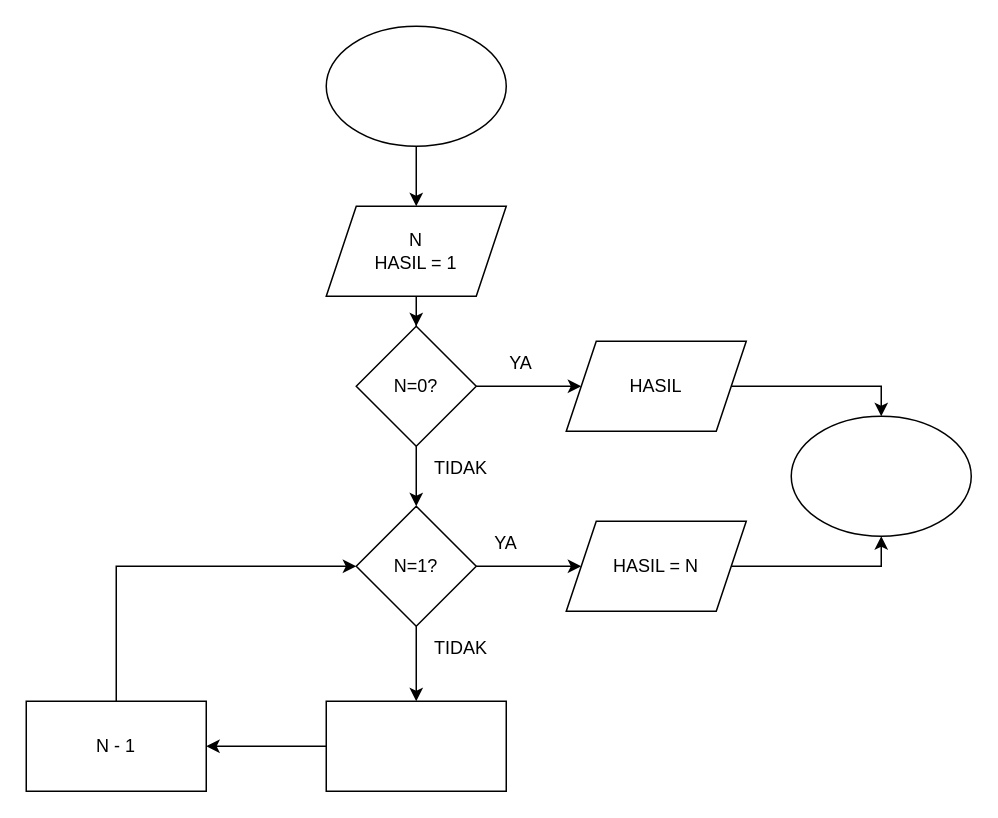
Some shapes in this 998 by 818 pixel diagram are drawn without their labels. Each missing label, with the centre of its shape:
"FINISH" belongs at (x=880, y=475).
"HASIL X N" belongs at (x=415, y=745).
"START" belongs at (x=415, y=85).
